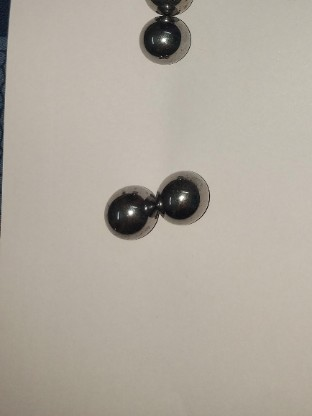ironball: (102, 184, 161, 245), (135, 16, 197, 66), (159, 173, 213, 229), (135, 0, 204, 20)
